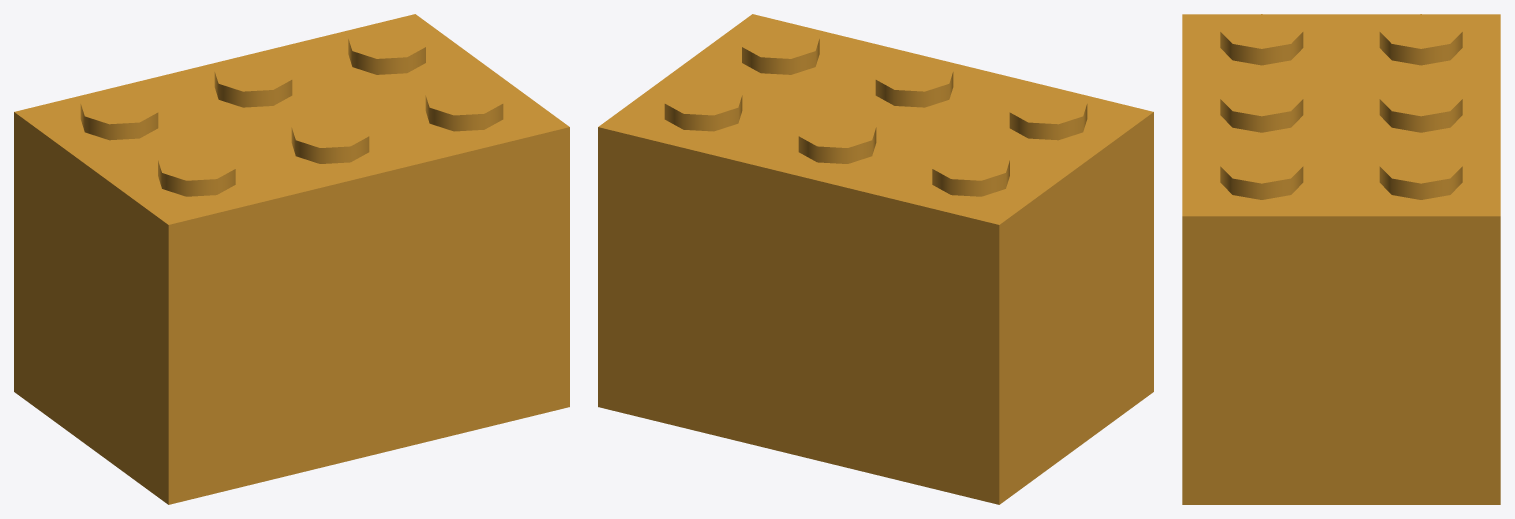
The model's file is LegoAmmo.glb.
3 renders of one model, left to right at view 1: azimuth 30°, elevation 25°; view 2: azimuth 150°, elevation 25°; view 3: azimuth 270°, elevation 25°, orthographic. The views are drawn at different scales.
Visible parts, largest first — view 1: LegoAmmo; view 2: LegoAmmo; view 3: LegoAmmo.
Boxes of the visible parts, x1,y1,x2,y2 form: LegoAmmo: (14,14,569,504); LegoAmmo: (598,14,1153,504); LegoAmmo: (1182,14,1500,504).
Bounding box in the file's own units: 0.3 × 0.2114 × 0.2.
